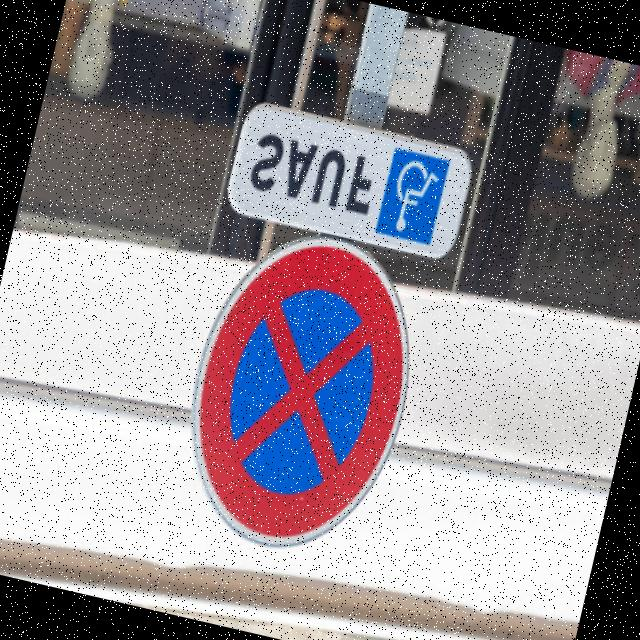no_parking: (160, 213, 434, 572)
